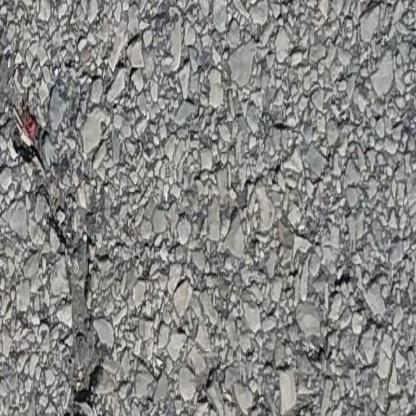Cracks: (236, 0, 282, 415), (311, 257, 347, 416), (0, 0, 29, 136)
